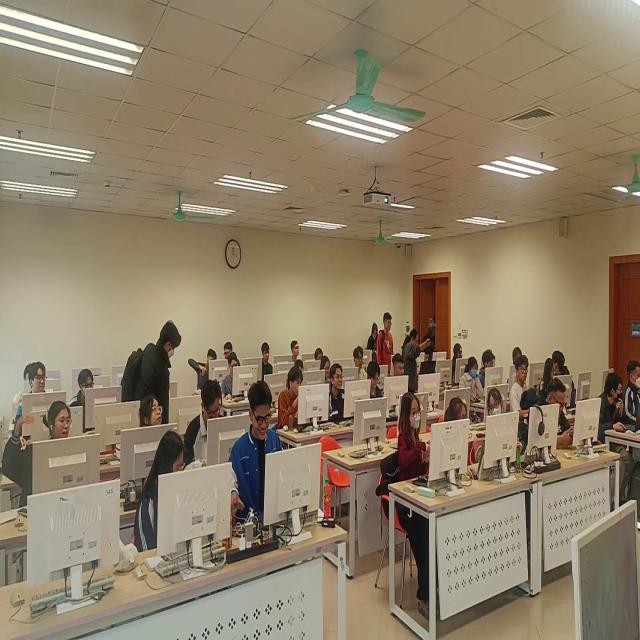raise_hand: (1, 399, 73, 521), (189, 343, 219, 397)
raise_head: (10, 359, 48, 435), (135, 385, 166, 441), (510, 357, 533, 422), (13, 361, 34, 417), (352, 342, 369, 393), (289, 334, 302, 367), (314, 342, 326, 367)
stand: (121, 319, 184, 439), (401, 323, 426, 393), (377, 311, 396, 379), (424, 308, 438, 367), (367, 320, 381, 361)
using_computer: (228, 381, 286, 545), (395, 392, 434, 508), (186, 372, 227, 482), (442, 393, 472, 486), (595, 363, 625, 454), (69, 370, 101, 444), (623, 356, 640, 474), (328, 363, 352, 433), (278, 367, 303, 434), (460, 355, 483, 410), (365, 358, 386, 410), (538, 360, 560, 408), (480, 347, 497, 400), (224, 352, 243, 399), (317, 353, 334, 391), (449, 338, 464, 378), (260, 342, 275, 381), (394, 353, 407, 392), (510, 346, 525, 371)
using_phone: (531, 377, 582, 457)
